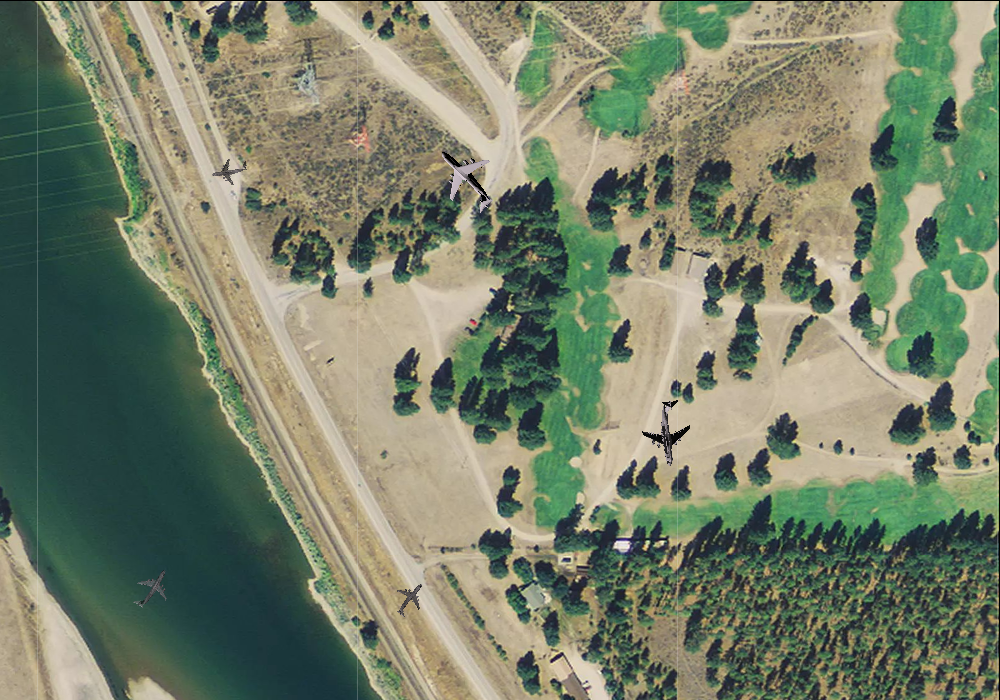plane: (417, 131, 513, 227), (636, 396, 702, 469), (122, 558, 180, 618), (385, 574, 435, 625), (208, 151, 249, 189)
